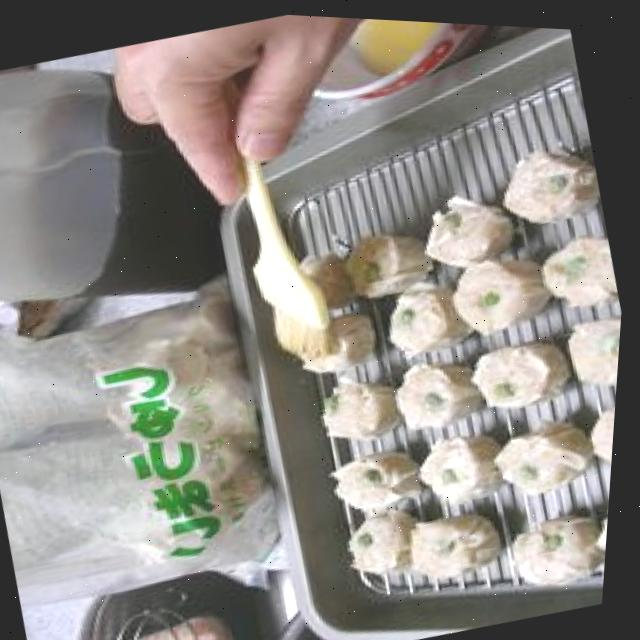带馅早点: (318, 161, 632, 618)
